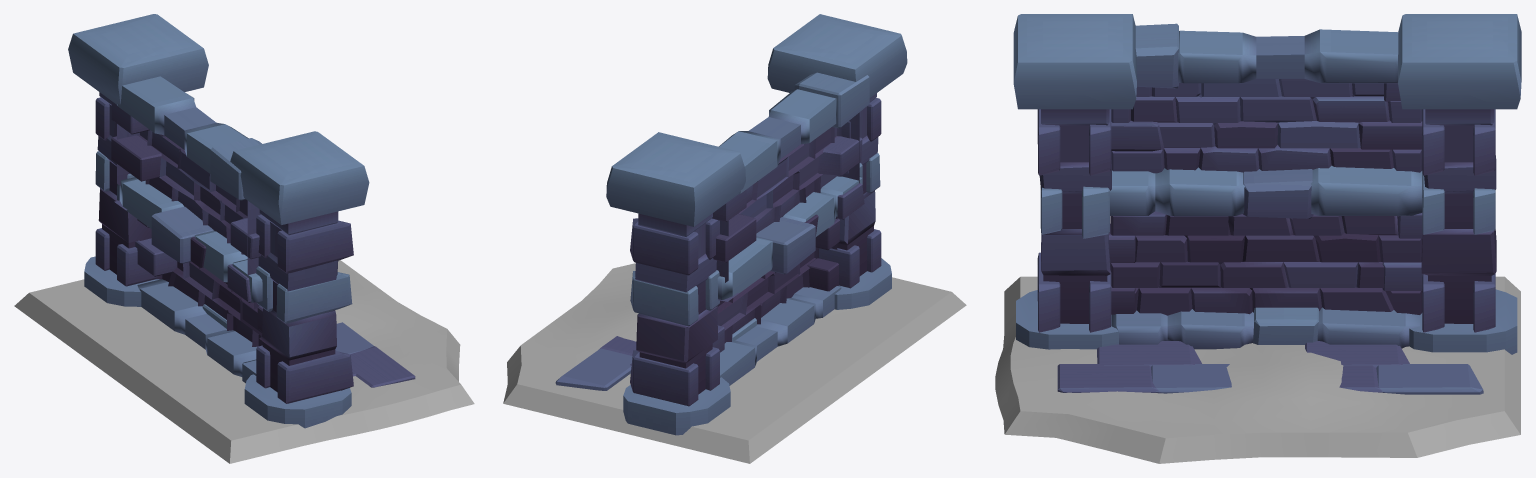
Rendered from WallSetup.fbx.
The picture shows the model from 3 angles, left to right: view 1: azimuth 30°, elevation 25°; view 2: azimuth 150°, elevation 25°; view 3: azimuth 270°, elevation 25°; orthographic projection. The views are drawn at different scales.
Parts seen in each view (by area): view 1: pCube452; view 2: pCube452; view 3: pCube452.
Part boxes in pixels (x1,y1,x2,y2): pCube452: [14, 14, 474, 463]; pCube452: [503, 14, 966, 463]; pCube452: [995, 14, 1521, 463].
Size of the model in its own units: 7.18 by 6.25 by 9.26.
